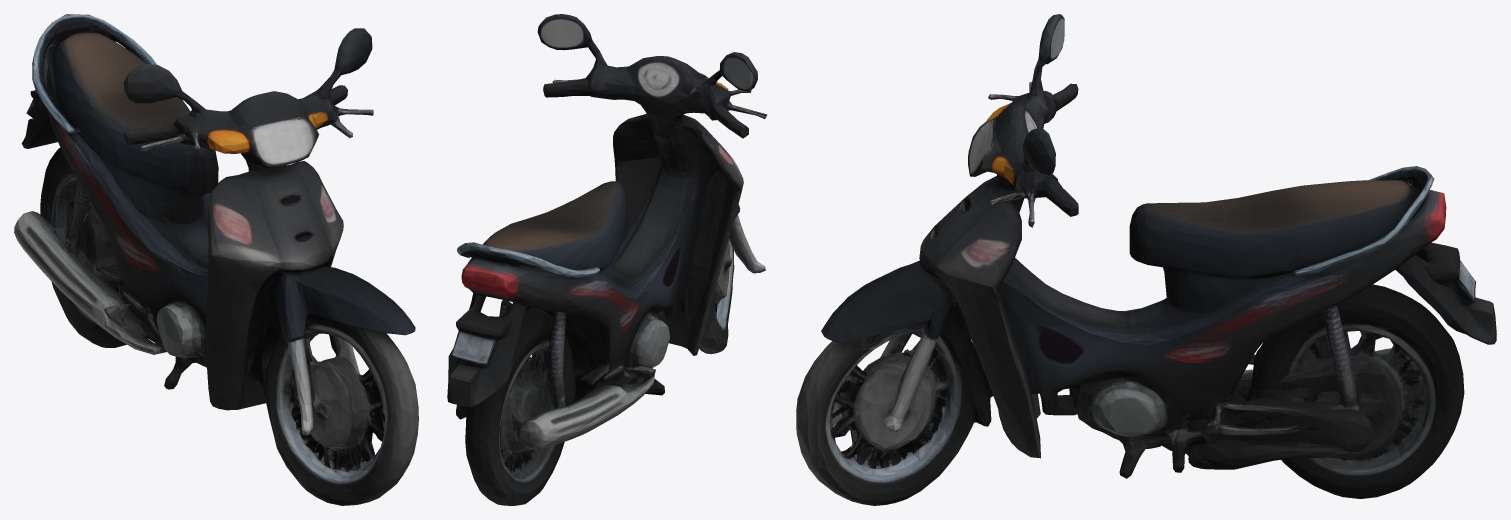
File: XeMay.glb
The picture shows the model from 3 angles, left to right: view 1: azimuth 30°, elevation 25°; view 2: azimuth 150°, elevation 25°; view 3: azimuth 270°, elevation 25°; orthographic projection. The views are drawn at different scales.
Visible parts, largest first — view 1: world; view 2: world; view 3: world.
Boxes of the visible parts, x1,y1,x2,y2 form: world: (14,14,418,505); world: (447,14,767,505); world: (796,14,1496,505).
Size of the model in its own units: 0.4242 by 0.6778 by 0.9984.
Materials: 1 (1 with a texture image).
